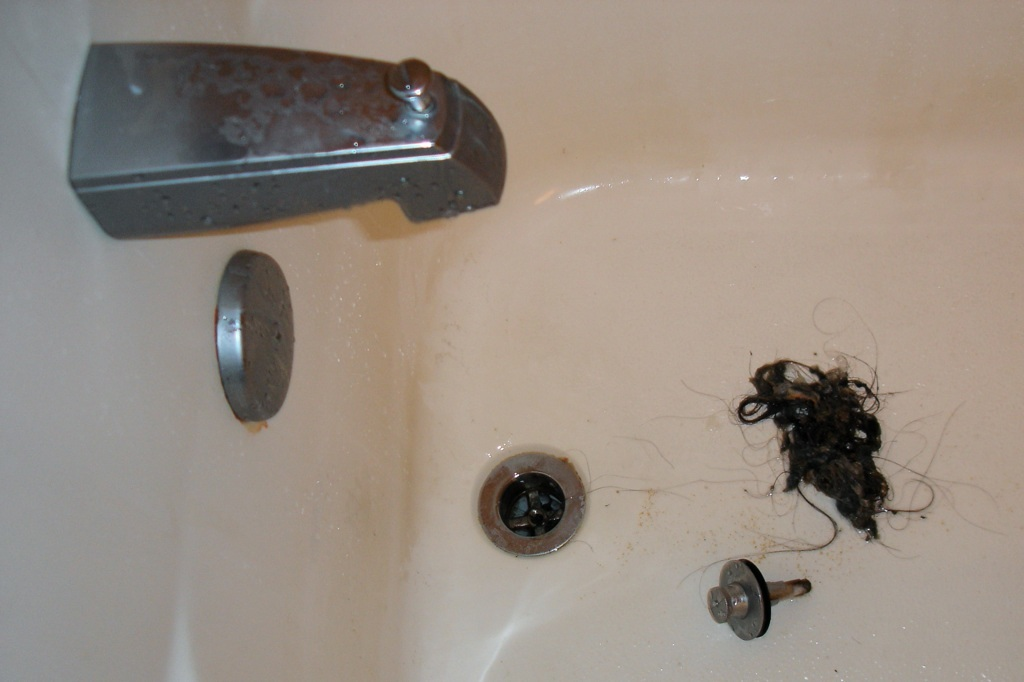tap: (65, 35, 510, 239)
